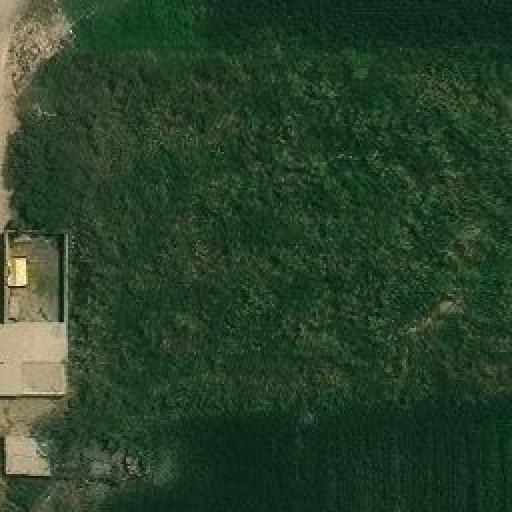manzanas: (0, 231, 73, 475)
